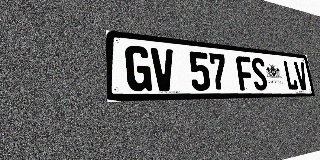5: (189, 51, 211, 91)
7: (208, 53, 229, 91)
F: (235, 56, 255, 91)
G: (125, 45, 152, 91)
L: (283, 60, 299, 90)
S: (250, 57, 268, 90)
V: (150, 47, 176, 91), (294, 61, 309, 90)
